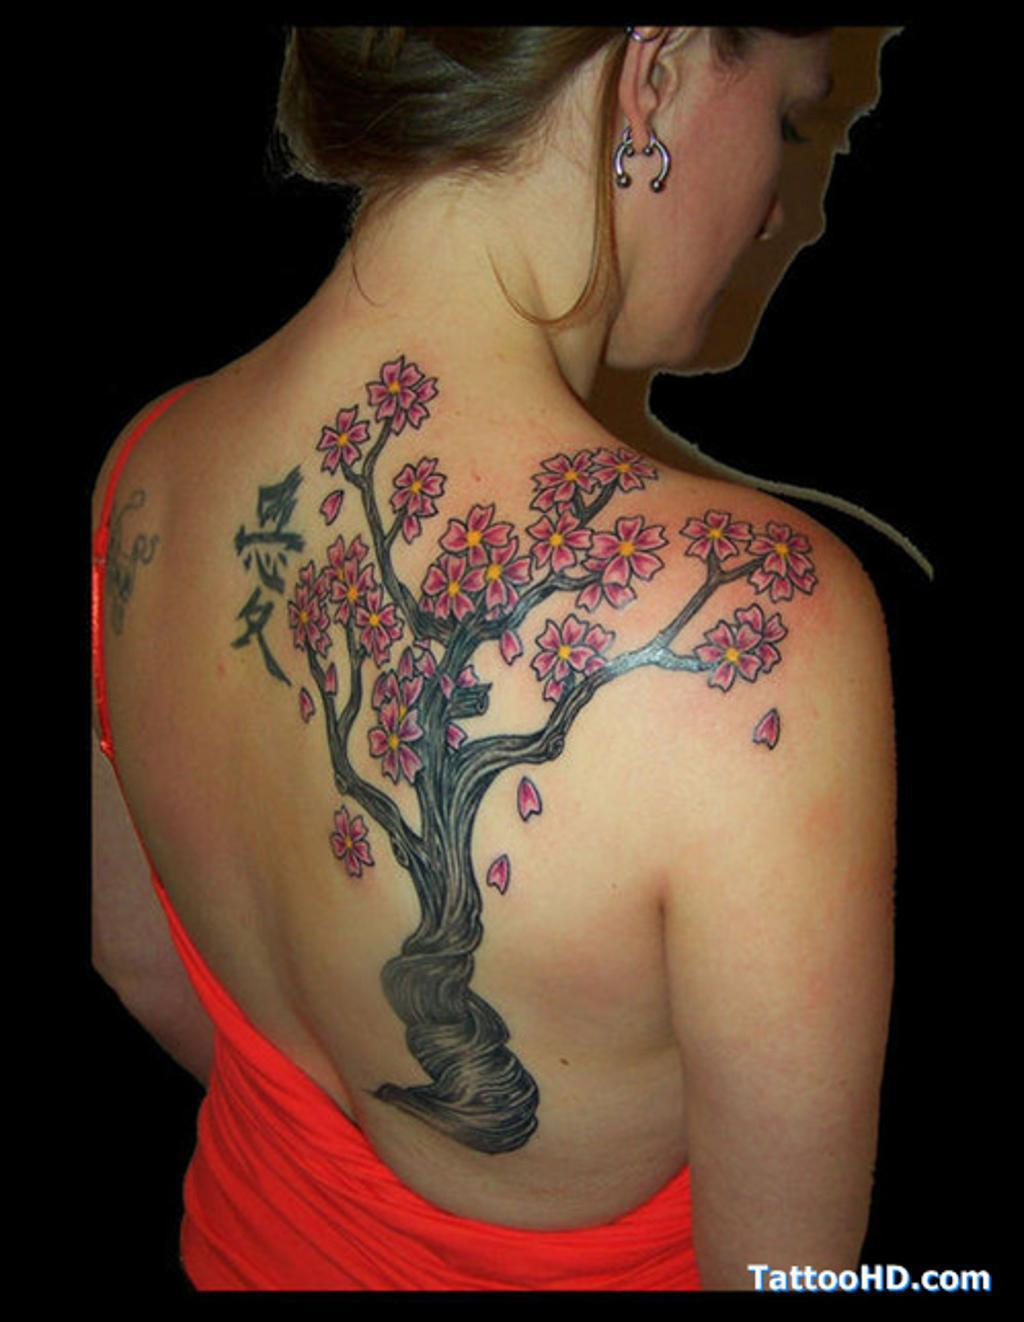face: (659, 24, 829, 370)
